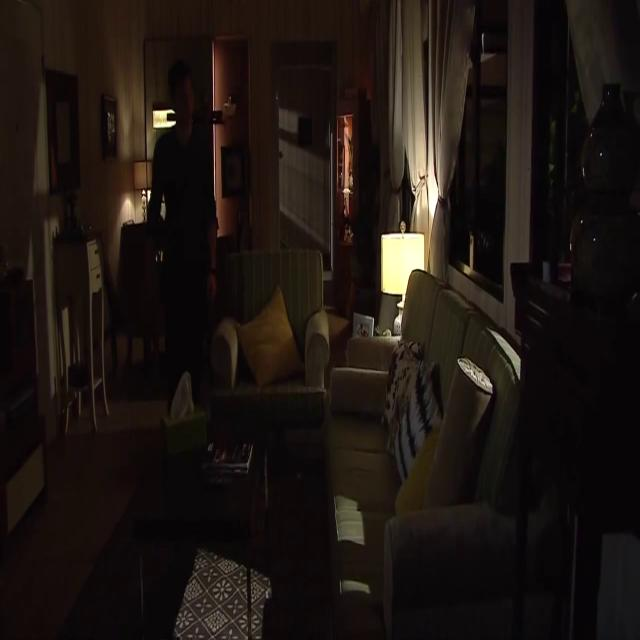People: (155, 60, 234, 409)
Table: (136, 408, 274, 599), (53, 205, 120, 447)
chair: (334, 273, 564, 640), (216, 204, 340, 431)
